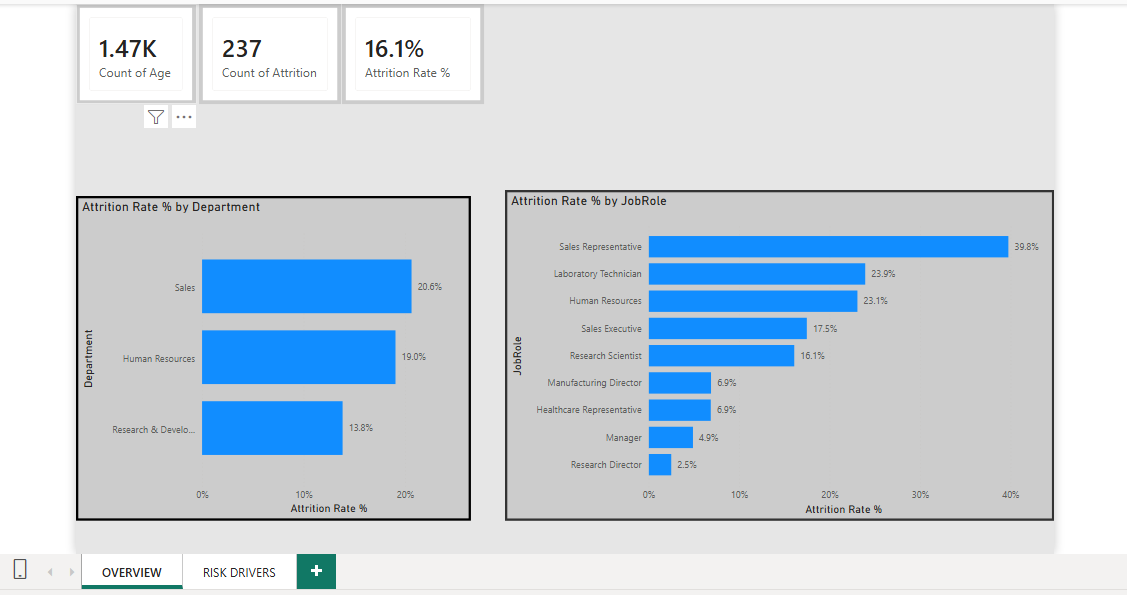

Layout of this report page (visuals, bound fields, positions):
{"tool":"powerbi","page":{"name":"OVERVIEW","canvas":[1280,720],"ordinal":0},"visuals":[{"type":"cardVisual","fields":{"Data":["CountNonNull(HR_Attrition_Cleaned.Age)"]},"box":[0,0,157.9,131],"z":0},{"type":"cardVisual","fields":{"Data":["CountNonNull(HR_Attrition_Cleaned.Attrition)"]},"box":[161.3,0,186.5,131],"z":1},{"type":"cardVisual","fields":{"Data":["HR_Attrition_Cleaned.Attrition Rate %"]},"box":[347.7,0,186.5,131],"z":2},{"type":"clusteredBarChart","fields":{"Category":["HR_Attrition_Cleaned.Department"],"Y":["HR_Attrition_Cleaned.Attrition Rate %"]},"box":[0,252,517.4,425],"z":3},{"type":"clusteredBarChart","fields":{"Category":["HR_Attrition_Cleaned.JobRole"],"Y":["HR_Attrition_Cleaned.Attrition Rate %"]},"box":[561,243.6,719,433.4],"z":4}]}

Visuals, with their boxes on the page's 1280x720 design canvas (x1, y1, x2, y2). These are canvas units, not pixel positions in the 1127x595 screenshot, which may show the page scaled, cropped or inside an application window:
cardVisual - CountNonNull(HR_Attrition_Cleaned.Age): [x1=0, y1=0, x2=158, y2=131]
cardVisual - CountNonNull(HR_Attrition_Cleaned.Attrition): [x1=161, y1=0, x2=348, y2=131]
cardVisual - HR_Attrition_Cleaned.Attrition Rate %: [x1=348, y1=0, x2=534, y2=131]
clusteredBarChart - HR_Attrition_Cleaned.Department x HR_Attrition_Cleaned.Attrition Rate %: [x1=0, y1=252, x2=517, y2=677]
clusteredBarChart - HR_Attrition_Cleaned.JobRole x HR_Attrition_Cleaned.Attrition Rate %: [x1=561, y1=244, x2=1280, y2=677]
